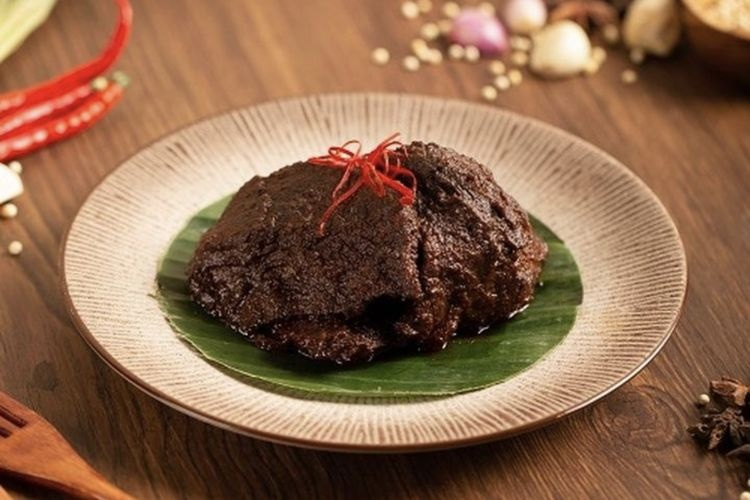rendang: (178, 150, 546, 365)
